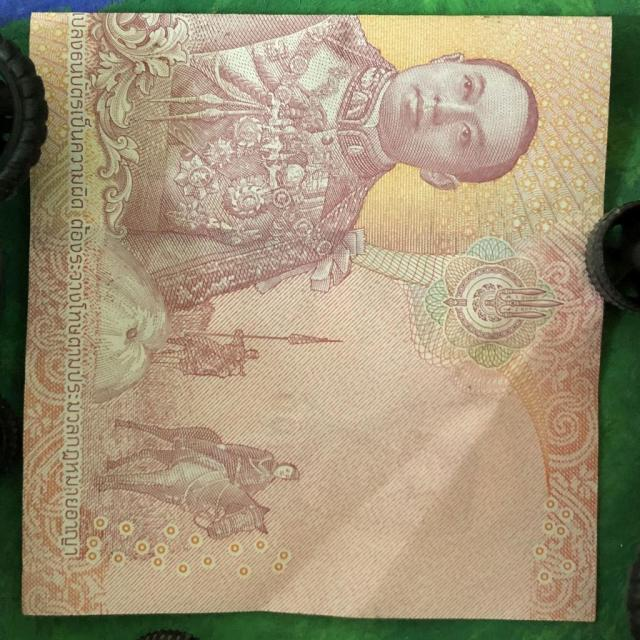THAI100: (21, 13, 612, 626)
